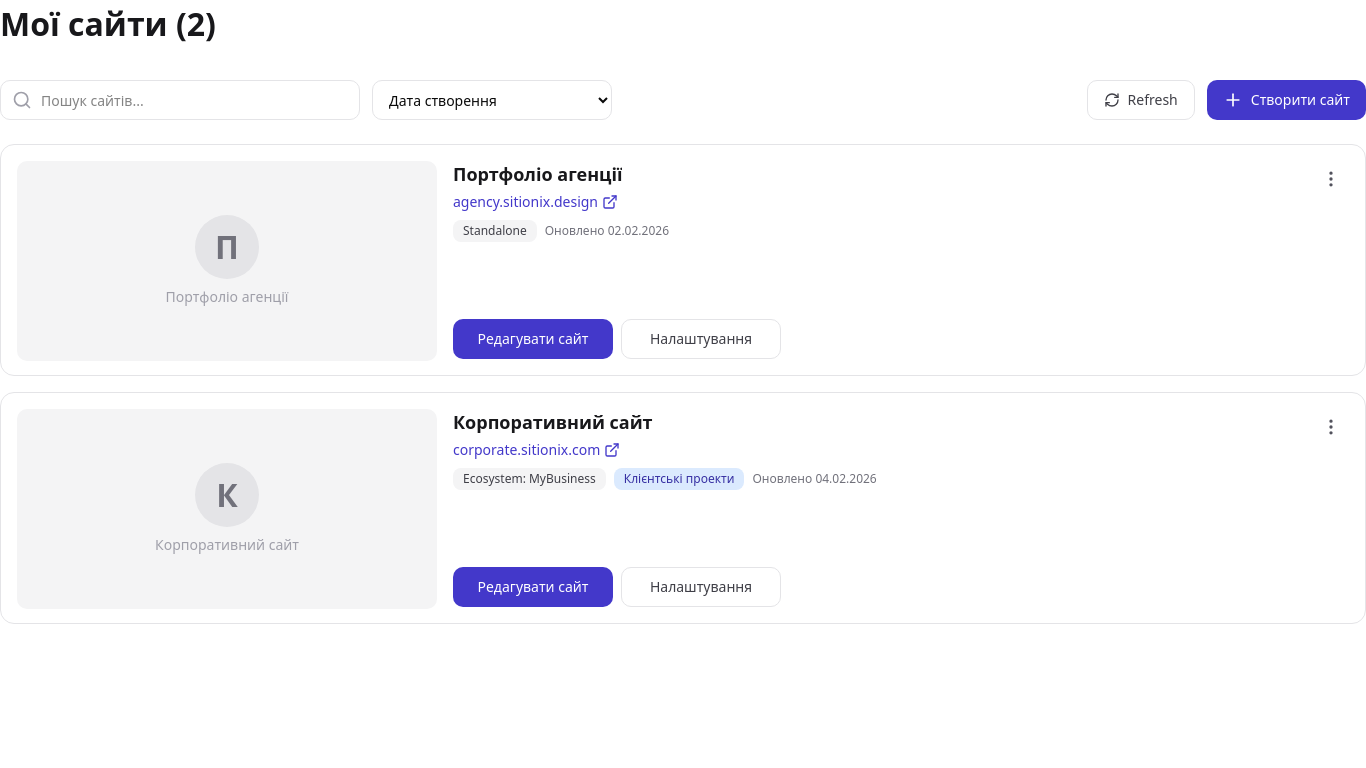
it: SitesPage › renders sites and supports delete/collection actions
Expected: the heading "Мої сайти (2)" is shown, [0, 0, 216, 48]
Expected: the 1st icon with class "lucide-ellipsis-vertical" is shown, [1321, 169, 1341, 189]
Click the button with class "lucide-ellipsis-vertical" at (1331,179), box [1313, 161, 1349, 197]
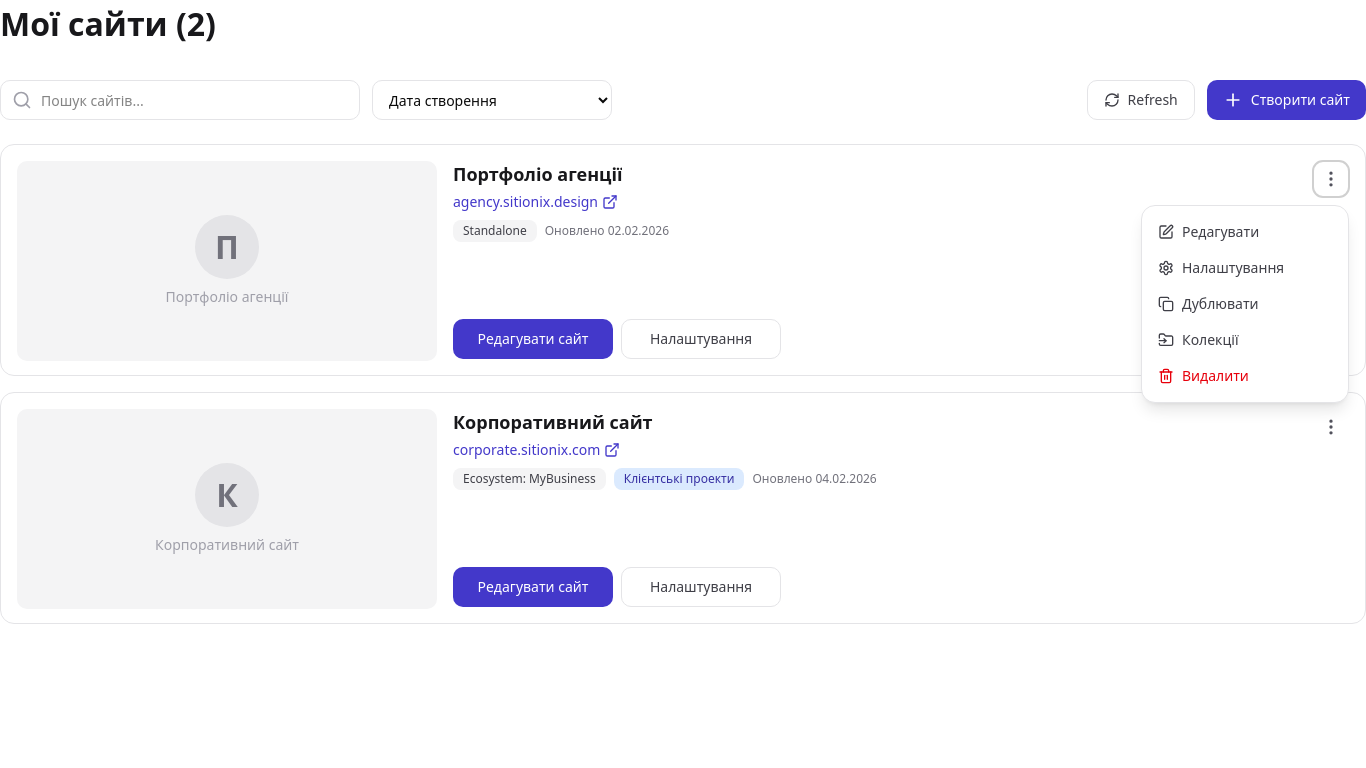
Click the button "Видалити" at (1245,376), box [1142, 358, 1348, 394]
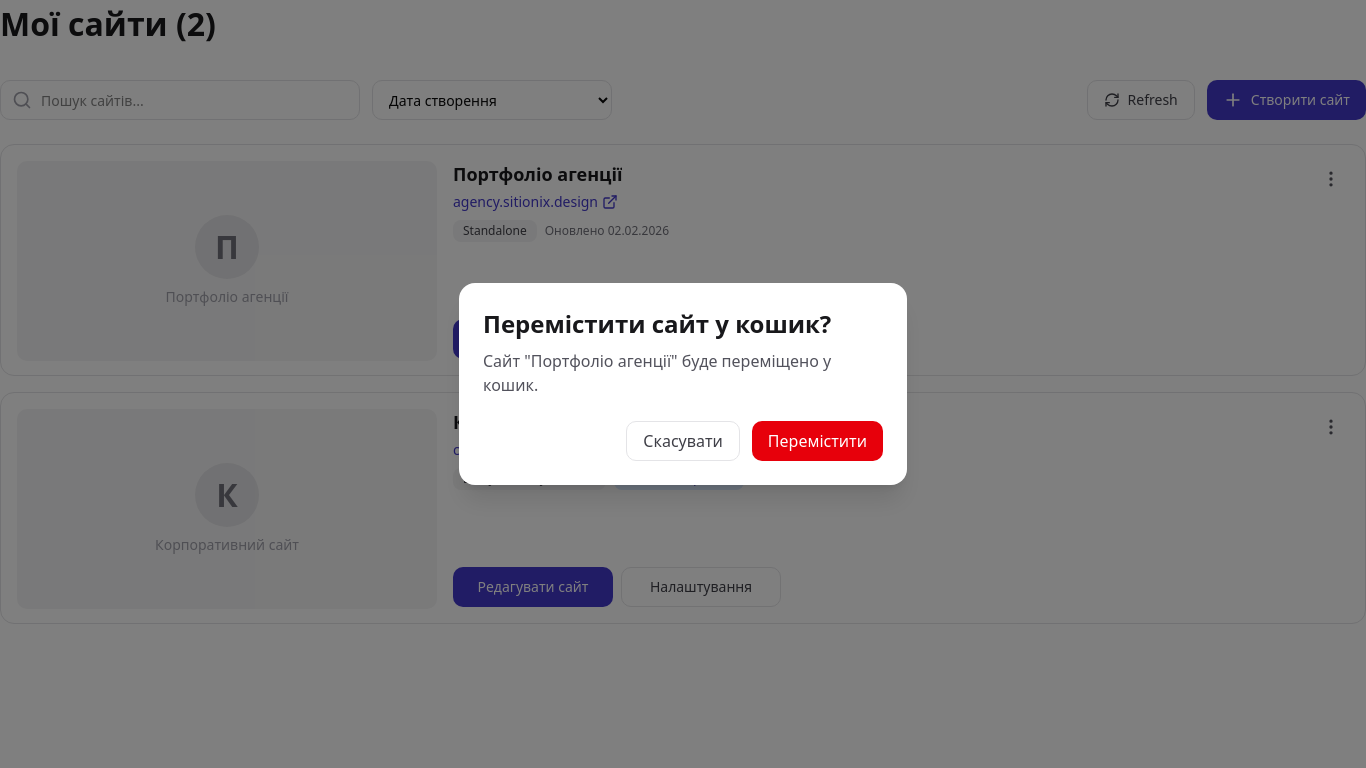
Click the button "Перемістити" at (817,441), box [752, 421, 883, 461]
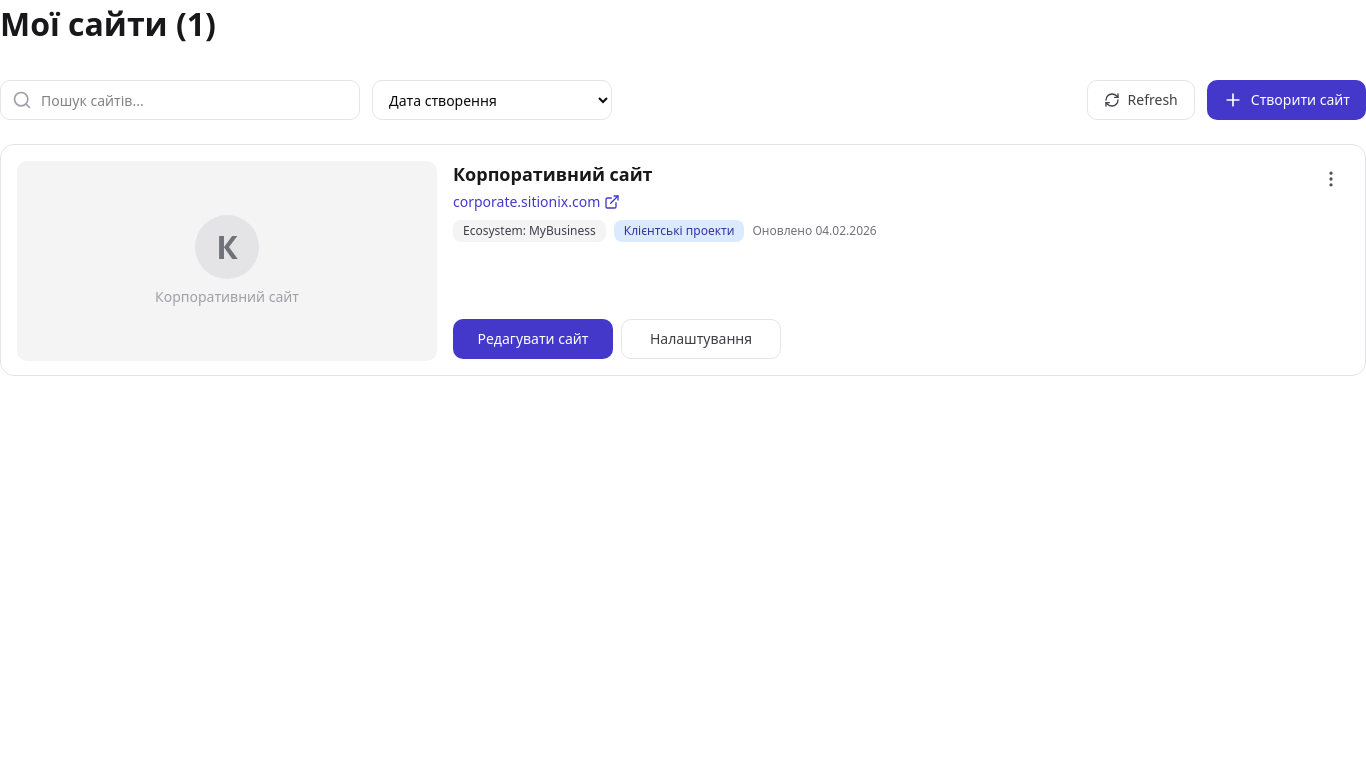
Result: the button "Портфоліо агенції" is gone
Click the button with class "lucide-ellipsis-vertical" at (1331,179), box [1313, 161, 1349, 197]
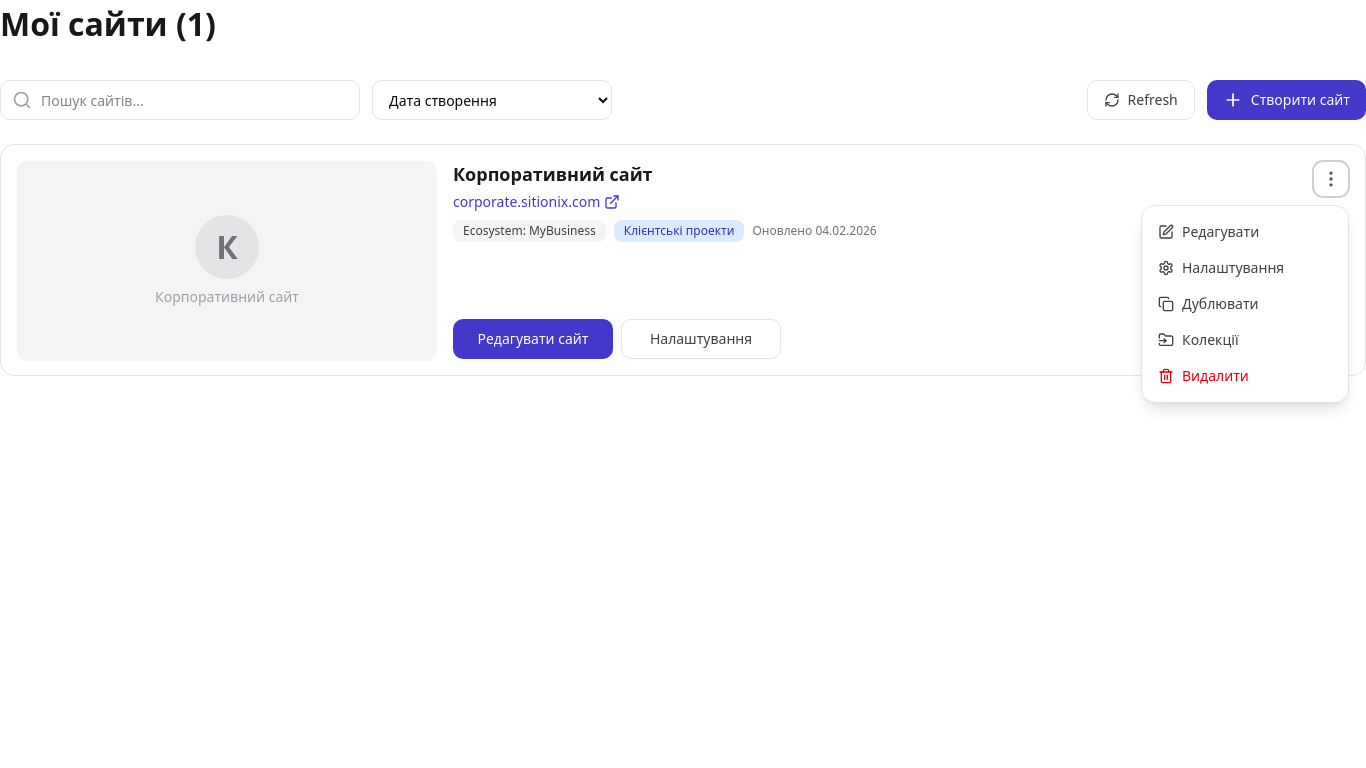
Click the button "Колекції" at (1245,340), box [1142, 322, 1348, 358]
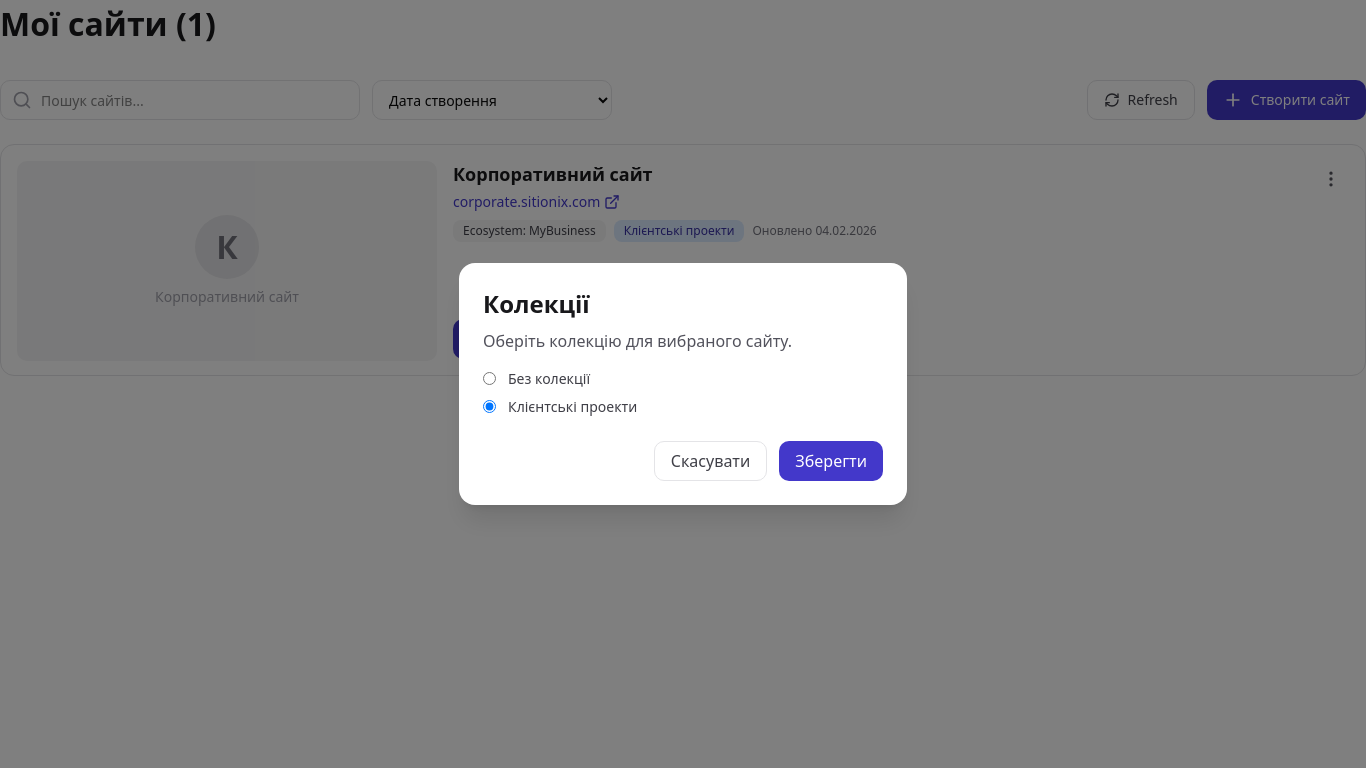
Result: the heading "Колекції" is shown at [483, 287, 590, 320]
Click the button "Зберегти" at (831,461), box [779, 441, 883, 481]
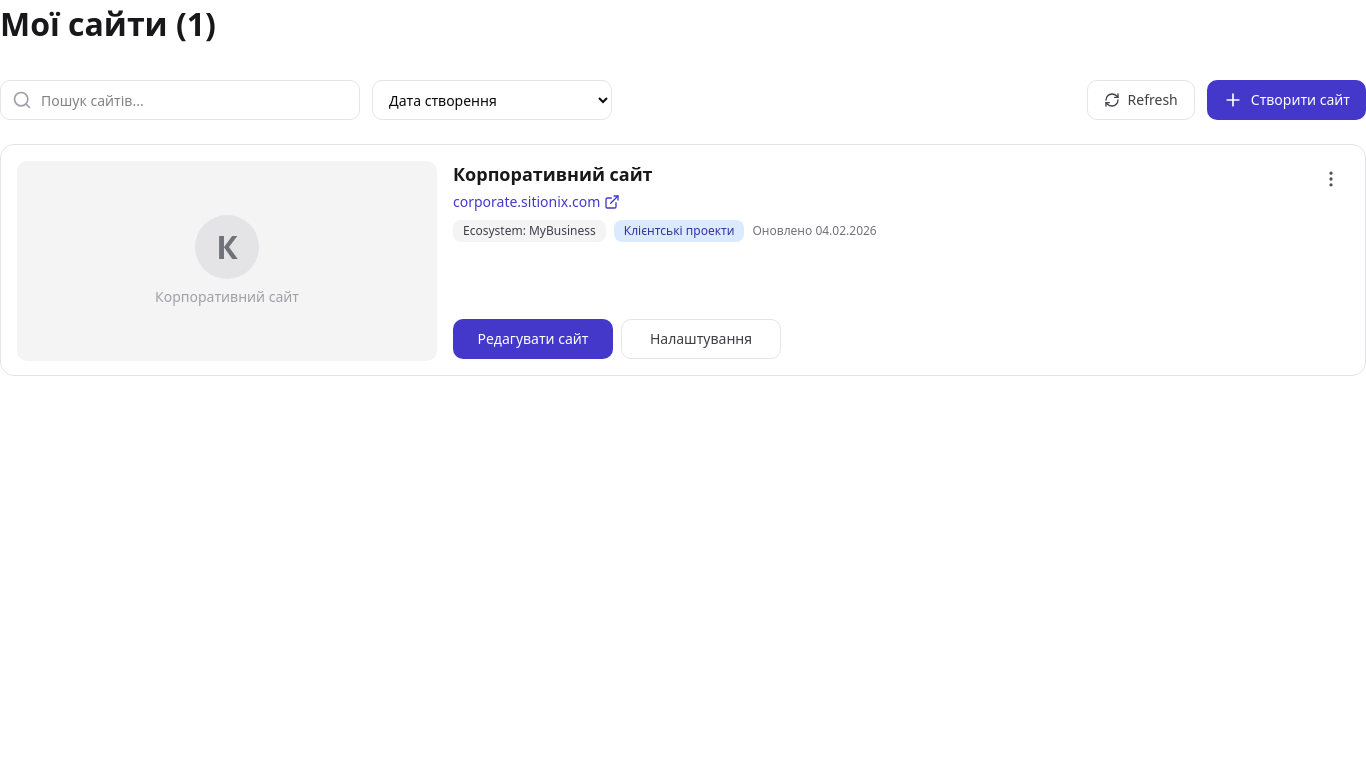
Result: the heading "Колекції" is gone
